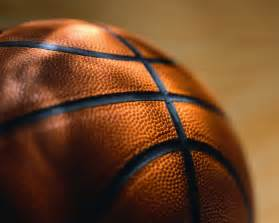basketball: (1, 19, 260, 223)
